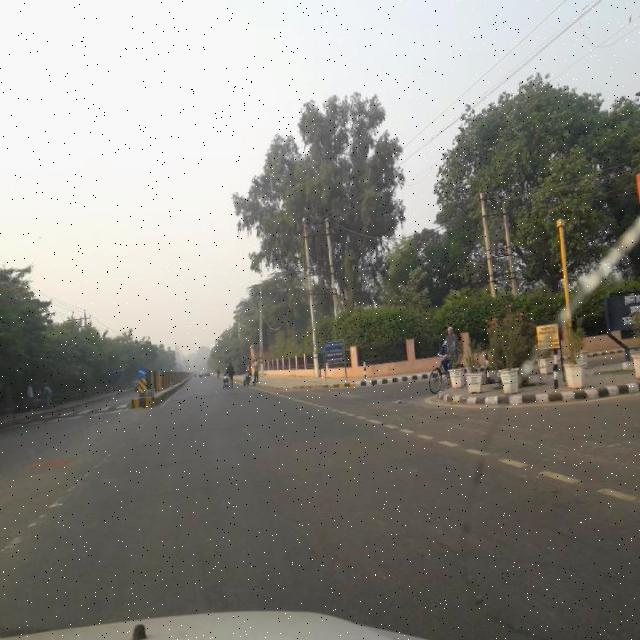D44: (1, 443, 120, 631)
